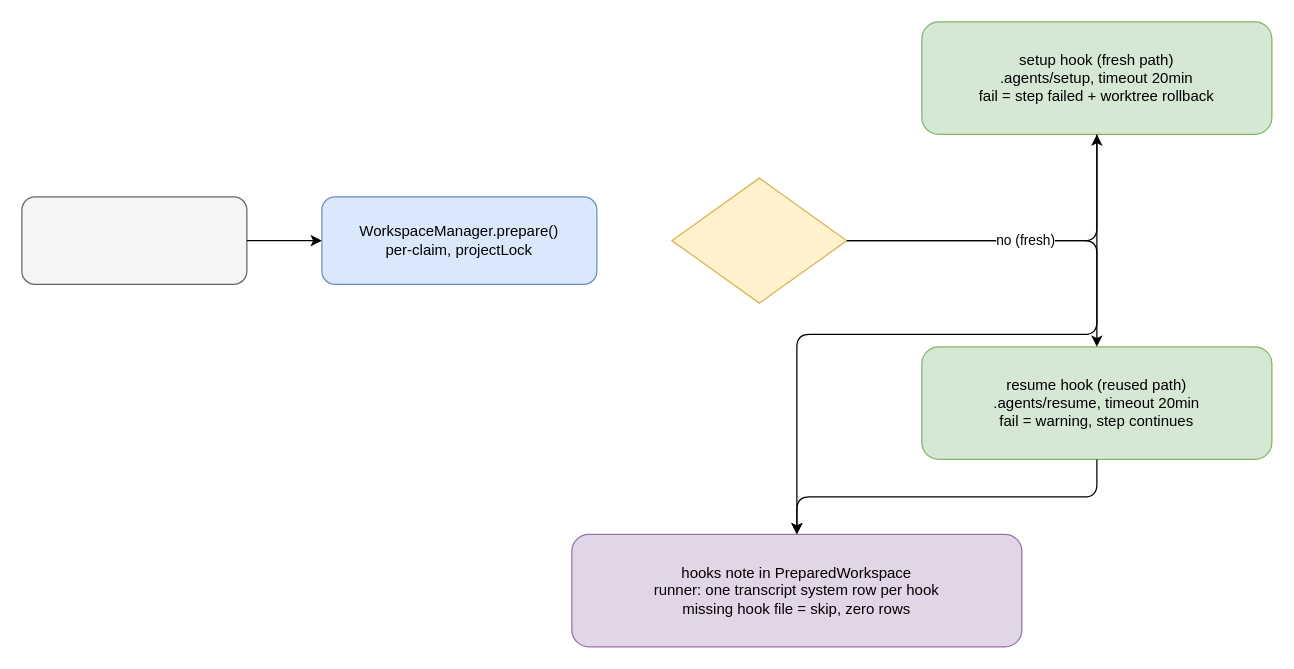
Image size: 1294x669. Some labels were removed from this diagram. The shapes that lost their labels are listed below. From the top down, each one's centre as x and y in pixels, then its label:
[134,240]: runStep: claimed step
[759,240]: worktree exists?
